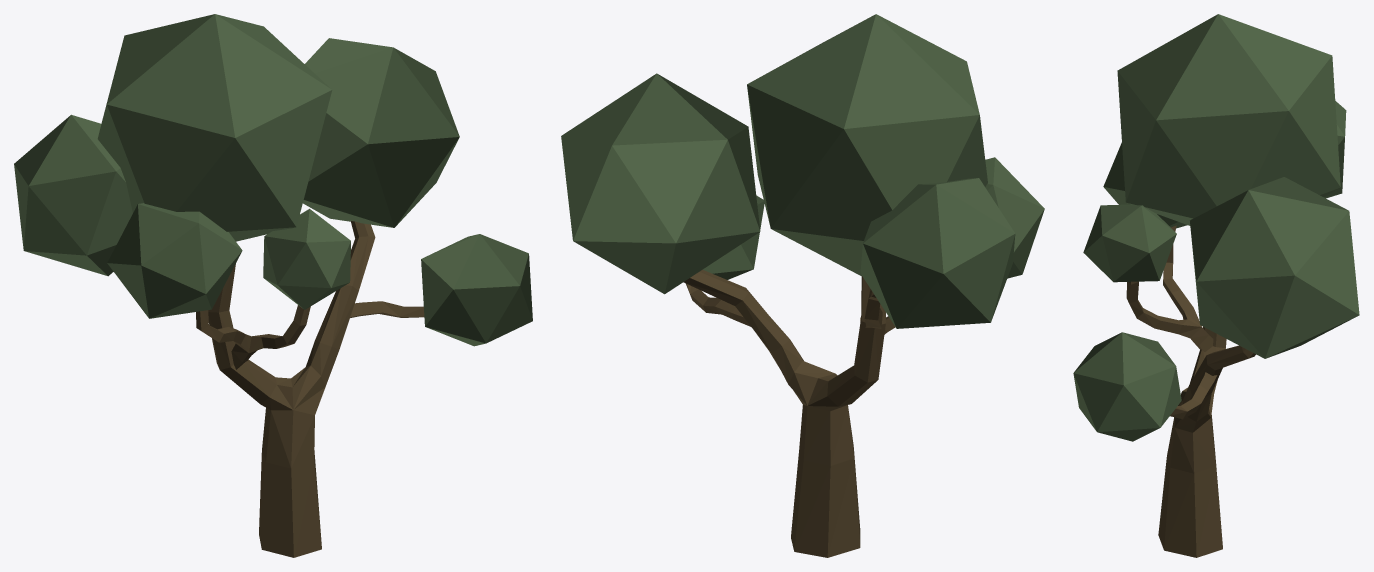
The model's file is Tree_l.fbx.
3 renders of one model, left to right at view 1: azimuth 30°, elevation 25°; view 2: azimuth 150°, elevation 25°; view 3: azimuth 270°, elevation 25°, orthographic. The views are drawn at different scales.
Visible parts, largest first — view 1: Tree_l_leaf, Tree_l_log; view 2: Tree_l_leaf, Tree_l_log; view 3: Tree_l_leaf, Tree_l_log.
Part boxes in pixels (x1=…): Tree_l_leaf: x1=14, y1=14, x2=532, y2=346; Tree_l_log: x1=196, y1=221, x2=424, y2=557; Tree_l_leaf: x1=561, y1=14, x2=1044, y2=328; Tree_l_log: x1=683, y1=269, x2=895, y2=557; Tree_l_leaf: x1=1073, y1=14, x2=1359, y2=441; Tree_l_log: x1=1126, y1=225, x2=1255, y2=557.
Size of the model in its own units: 11.08 by 13.33 by 6.9.
